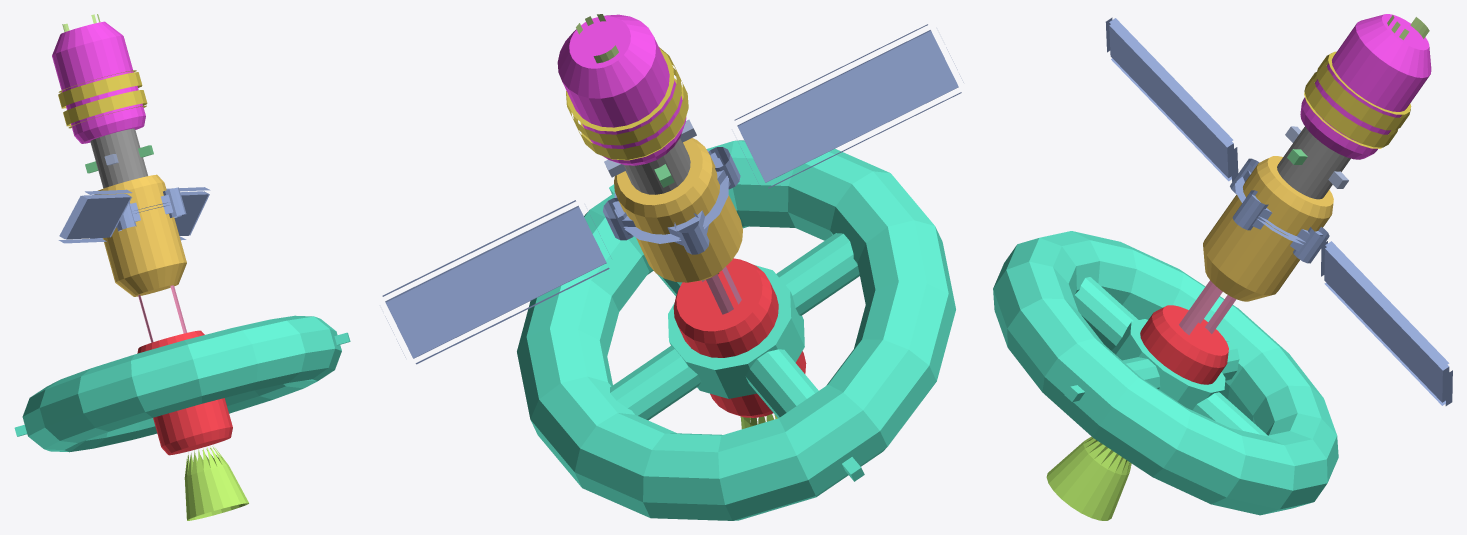
The model's file is saturn.glb.
3 views of the same model, side by side, from view 1: azimuth 30°, elevation 25°; view 2: azimuth 150°, elevation 25°; view 3: azimuth 270°, elevation 25° (orthographic). The views are drawn at different scales.
Visible parts, largest first — view 1: saturn; view 2: saturn; view 3: saturn.
Boxes of the visible parts, box(x1,y1,x2,y2) form: saturn: box(14, 14, 350, 520); saturn: box(382, 14, 963, 520); saturn: box(993, 14, 1452, 520).
Size of the model in its own units: 4.5 by 6.21 by 5.15.
